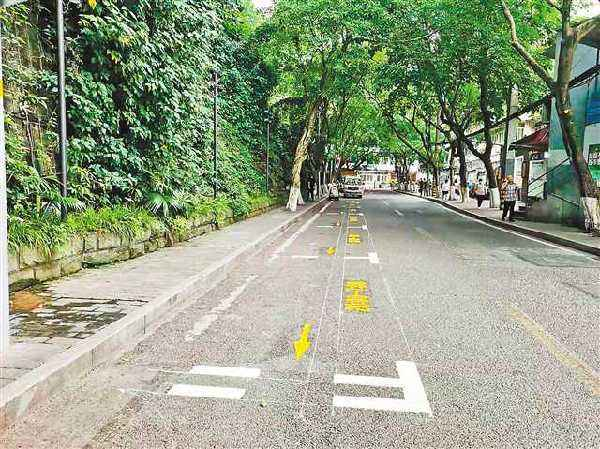slot_nocar: (144, 246, 439, 427), (263, 214, 389, 266), (300, 206, 373, 234), (322, 197, 370, 221)
